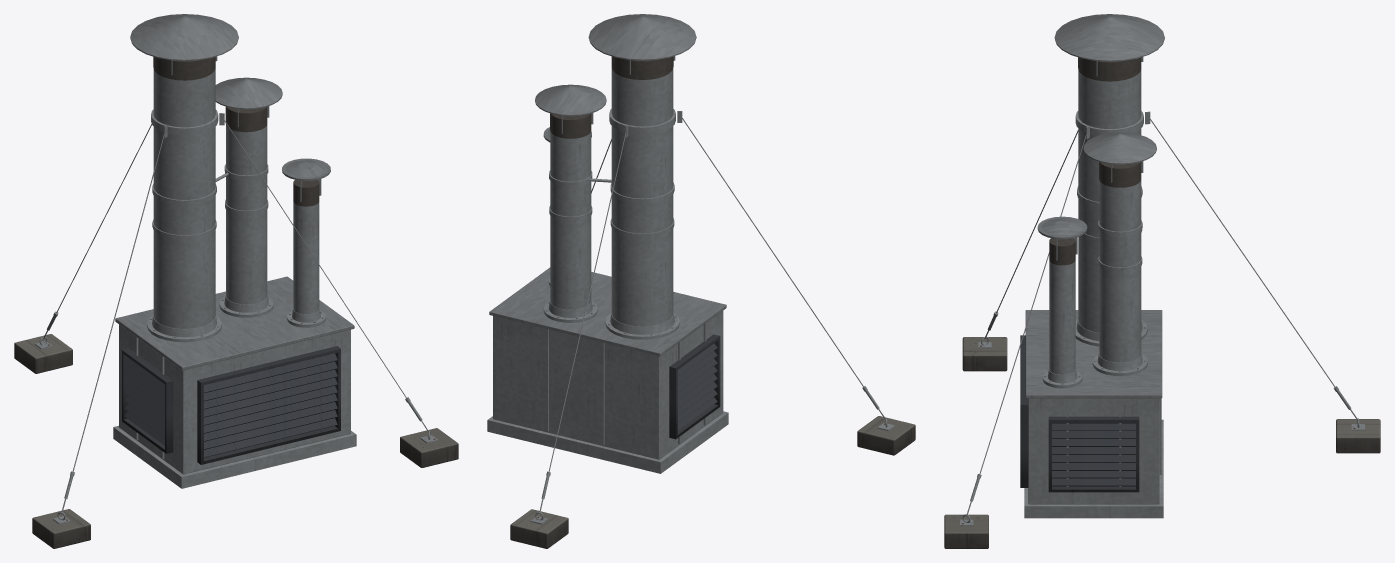
Rendered from exhaust_stack.glb.
3 renders of one model, left to right at view 1: azimuth 30°, elevation 25°; view 2: azimuth 150°, elevation 25°; view 3: azimuth 270°, elevation 25°, orthographic. The views are drawn at different scales.
Parts seen in each view (by area): view 1: stack_1_steel_galvanised_0, louvre_f_powder_coat_graphite_0, plenum_steel_galvanised_1, stack_2_steel_galvanised_0, plenum_steel_galvanised_wet_2, cap_1_steel_galvanised_wet_0, louvre_l_powder_coat_graphite_0, plenum_steel_galvanised_0, stack_3_steel_galvanised_0, cap_2_steel_galvanised_wet_0, anchors_concrete_weathered_0, anchors_concrete_weathered_6 (+9 smaller); view 2: plenum_steel_galvanised_1, stack_1_steel_galvanised_0, stack_2_steel_galvanised_0, plenum_steel_galvanised_wet_2, cap_1_steel_galvanised_wet_0, louvre_l_powder_coat_graphite_0, plenum_steel_galvanised_0, cap_2_steel_galvanised_wet_0, anchors_concrete_weathered_3, anchors_concrete_weathered_6, guys_steel_brushed_0, stack_1_steel_sooted_1 (+4 smaller); view 3: stack_2_steel_galvanised_0, stack_1_steel_galvanised_0, plenum_steel_galvanised_1, louvre_r_powder_coat_graphite_0, plenum_steel_galvanised_wet_2, cap_1_steel_galvanised_wet_0, stack_3_steel_galvanised_0, plenum_steel_galvanised_0, cap_2_steel_galvanised_wet_0, anchors_concrete_weathered_3, anchors_concrete_weathered_6, anchors_concrete_weathered_0 (+8 smaller).
Part boxes in pixels (x1,y1,x2,y2): stack_1_steel_galvanised_0: (147,68,221,342); louvre_f_powder_coat_graphite_0: (197,346,340,464); plenum_steel_galvanised_1: (119,324,350,474); stack_2_steel_galvanised_0: (219,124,273,317); plenum_steel_galvanised_wet_2: (115,276,354,370); cap_1_steel_galvanised_wet_0: (130,14,238,75); louvre_l_powder_coat_graphite_0: (122,348,173,453); plenum_steel_galvanised_0: (113,425,356,488); stack_3_steel_galvanised_0: (287,202,325,327); cap_2_steel_galvanised_wet_0: (215,77,282,127); anchors_concrete_weathered_0: (400,428,458,467); anchors_concrete_weathered_6: (14,334,72,373); plenum_steel_galvanised_1: (493,311,723,459); stack_1_steel_galvanised_0: (605,68,679,339); stack_2_steel_galvanised_0: (543,131,597,322); plenum_steel_galvanised_wet_2: (489,267,726,356); cap_1_steel_galvanised_wet_0: (588,14,696,74); louvre_l_powder_coat_graphite_0: (669,334,720,439); plenum_steel_galvanised_0: (487,411,728,473); cap_2_steel_galvanised_wet_0: (535,84,606,133); anchors_concrete_weathered_3: (857,416,915,455); anchors_concrete_weathered_6: (510,509,568,548); guys_steel_brushed_0: (539,118,885,513); stack_1_steel_sooted_1: (611,56,673,79); stack_2_steel_galvanised_0: (1092,180,1147,376); stack_1_steel_galvanised_0: (1075,69,1147,346); plenum_steel_galvanised_1: (1028,398,1159,504); louvre_r_powder_coat_graphite_0: (1048,416,1139,492); plenum_steel_galvanised_wet_2: (1025,310,1162,398); cap_1_steel_galvanised_wet_0: (1054,14,1164,76); stack_3_steel_galvanised_0: (1042,261,1082,388); plenum_steel_galvanised_0: (1024,419,1163,518); cap_2_steel_galvanised_wet_0: (1083,132,1156,182); anchors_concrete_weathered_3: (962,337,1007,371); anchors_concrete_weathered_6: (1336,419,1380,453); anchors_concrete_weathered_0: (944,514,988,548).
Size of what is drawn, in the model's own units: 3.54 by 3.67 by 3.32.
8 materials, 7 textured.
